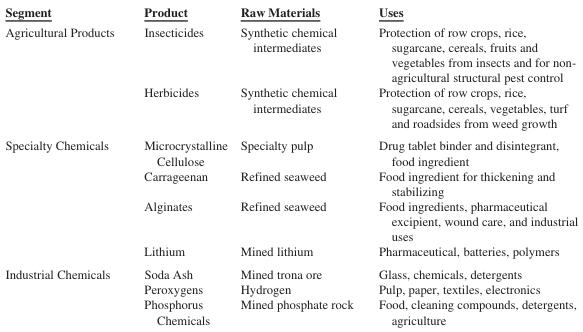table: (4, 3, 577, 326)
table column: (365, 3, 577, 326), (233, 3, 365, 326), (4, 3, 128, 326), (128, 3, 233, 326)
table column header: (4, 3, 577, 21)
table row: (4, 21, 577, 84), (4, 84, 577, 133), (4, 198, 577, 243), (4, 133, 577, 167), (4, 167, 577, 198), (4, 296, 577, 326), (4, 243, 577, 262), (4, 262, 577, 281), (4, 3, 577, 21), (4, 281, 577, 296)
table spanning cell: (4, 133, 128, 262), (4, 21, 128, 133), (4, 262, 128, 326)
